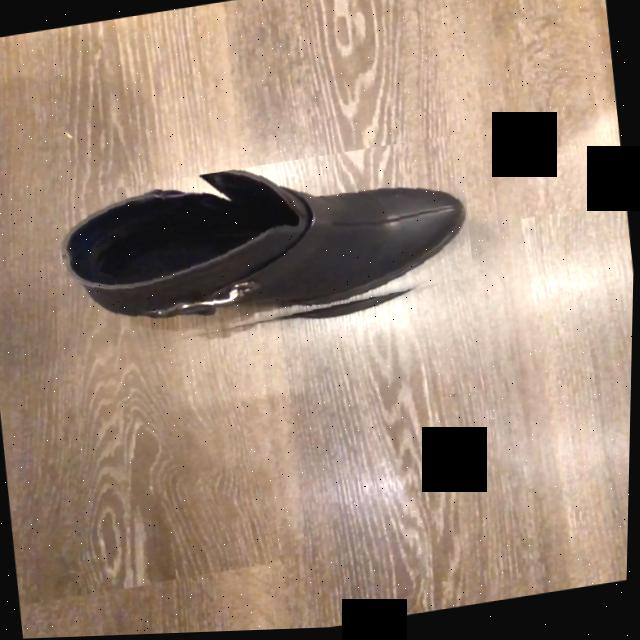shoe: (63, 172, 469, 324)
